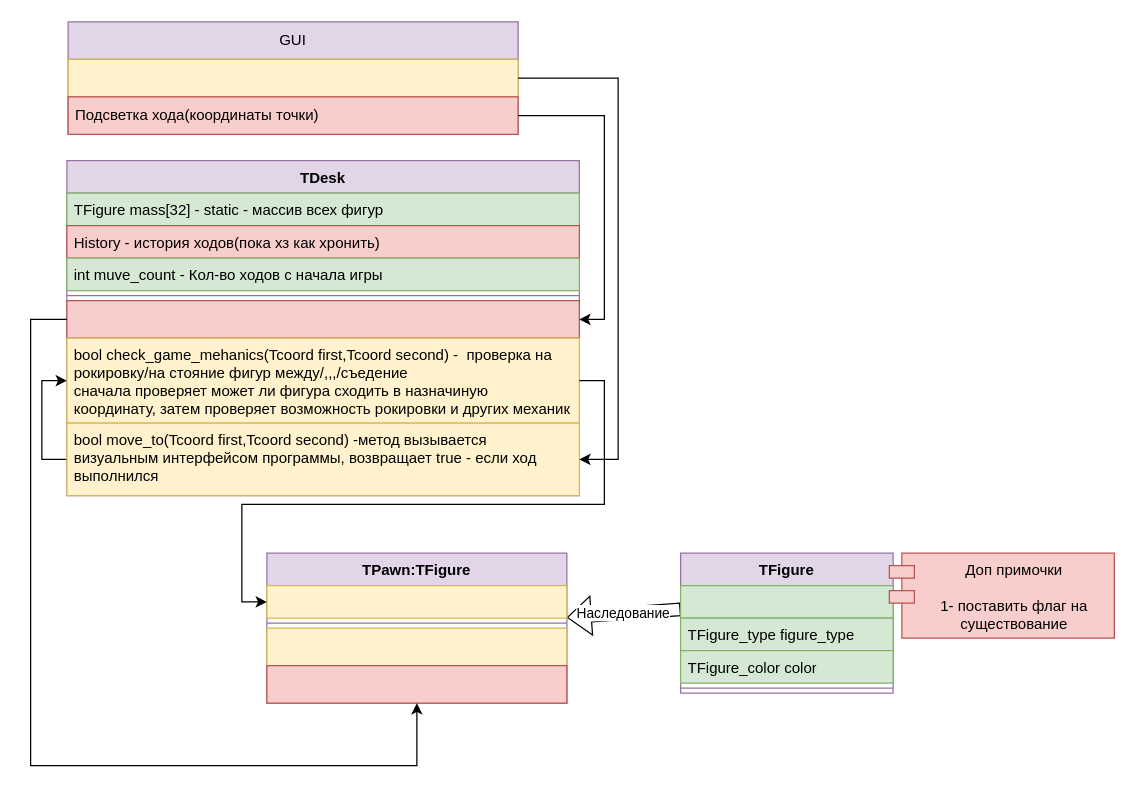
Some shapes in this 1136 by 798 pixel diagram are drawn without their labels. Here are the shapes that lost their labels. From the top down, the box of each, then its label:
(67, 58, 518, 97): Ход куда-то(координаты начала,координаты конца)
(66, 299, 579, 338): Tcoord* get_list_coord(Tcoord first)
(266, 584, 567, 618): bool проверка(Tcoord)
(679, 584, 893, 618): TCoord coord
(266, 627, 567, 666): void move_to(Tcoord tmp)
(266, 664, 567, 703): Tcoord* possible_moves(Tcoord first)
